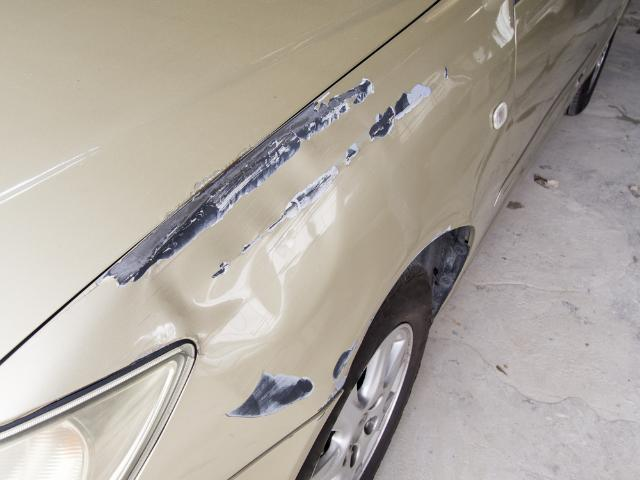dent: (145, 198, 339, 365)
scratch: (102, 71, 453, 292), (228, 372, 316, 418)
